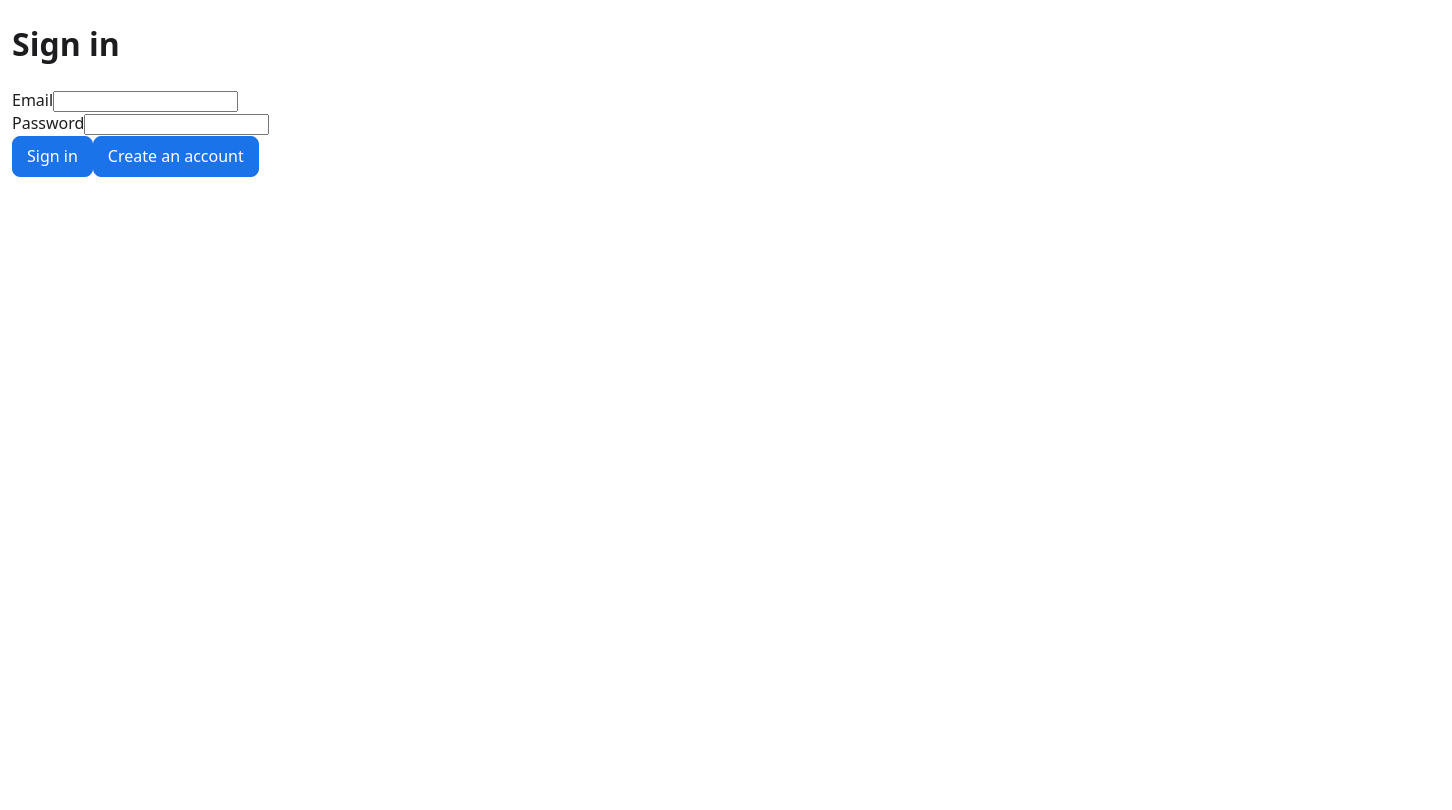
Test case: sign-out and back navigation › replaces the chat with the sign-in screen and leaves no chat content behind
Type "ana@example.com" into the field labelled "Email".
click(146, 102); type("ana@example.com")  # box top-left (53, 91), bottom-right (238, 112)
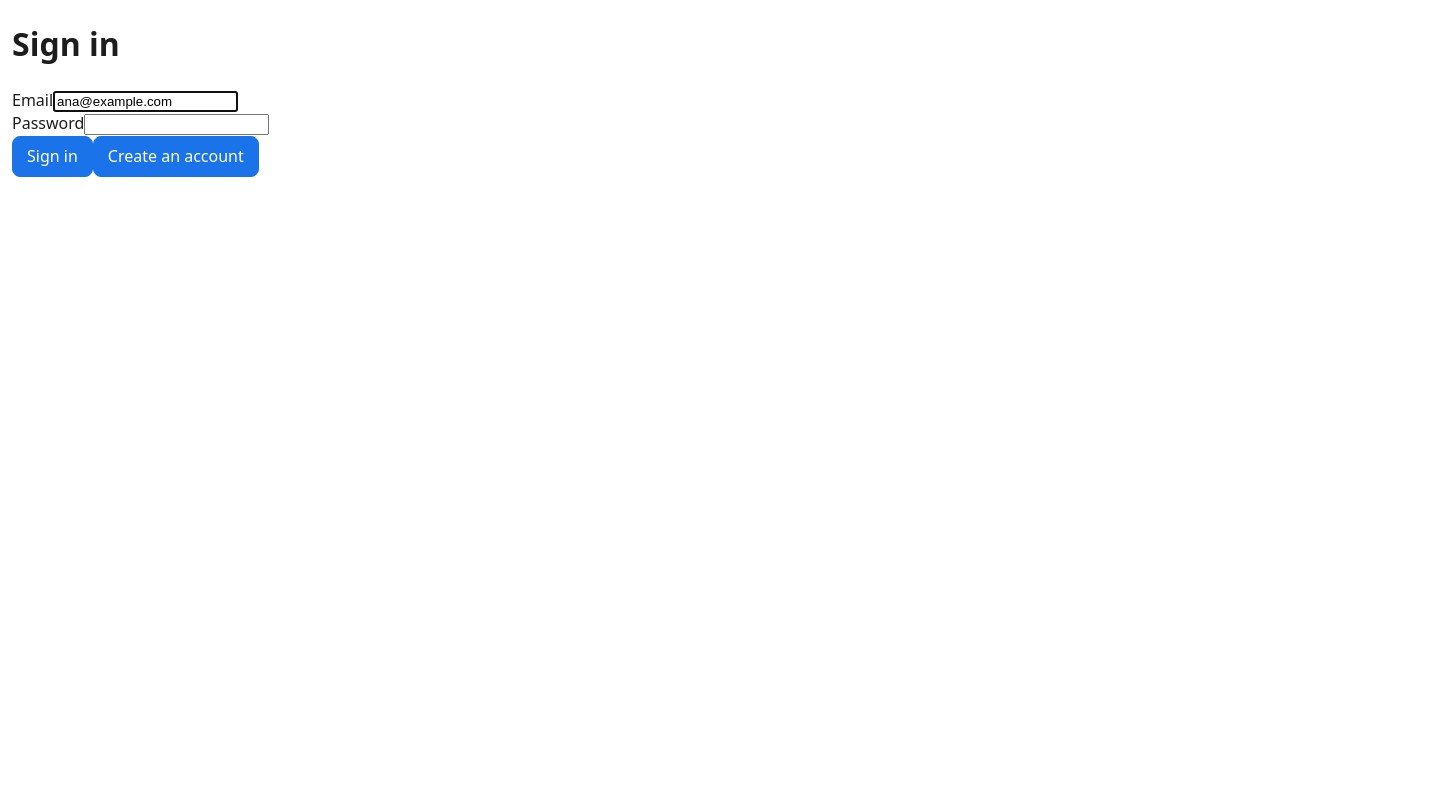
Type "correct-horse-battery-staple-42" into the password field labelled "Password".
click(177, 125); type("correct-horse-battery-staple-42")  # box top-left (84, 114), bottom-right (269, 136)
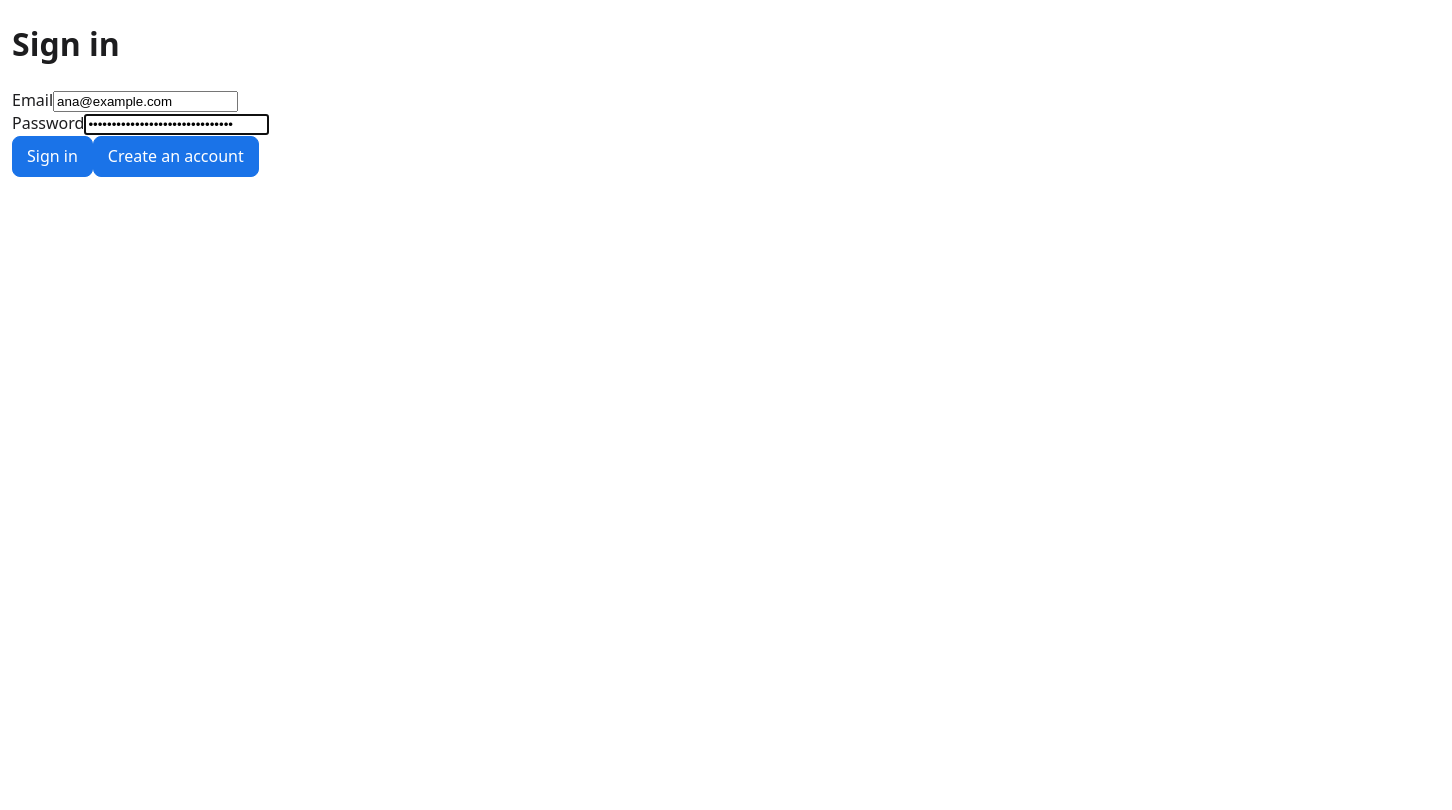
Click the button "Sign in".
click(52, 156)  # box top-left (12, 136), bottom-right (93, 177)
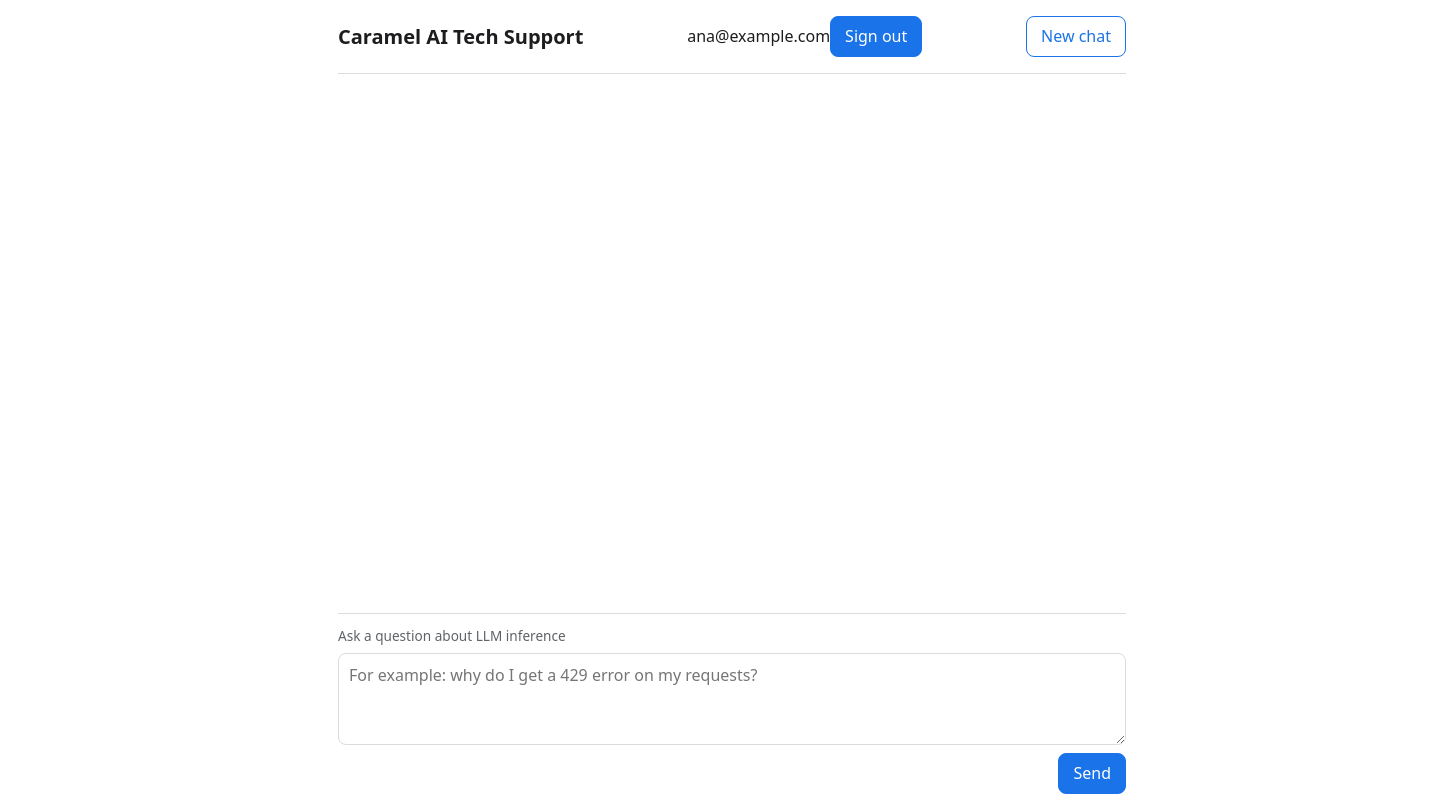
Check: the element named "Caramel AI tech support chat" is shown, box top-left (322, 0), bottom-right (1142, 809)
Click the button "Sign out".
click(876, 37)  # box top-left (830, 16), bottom-right (922, 57)
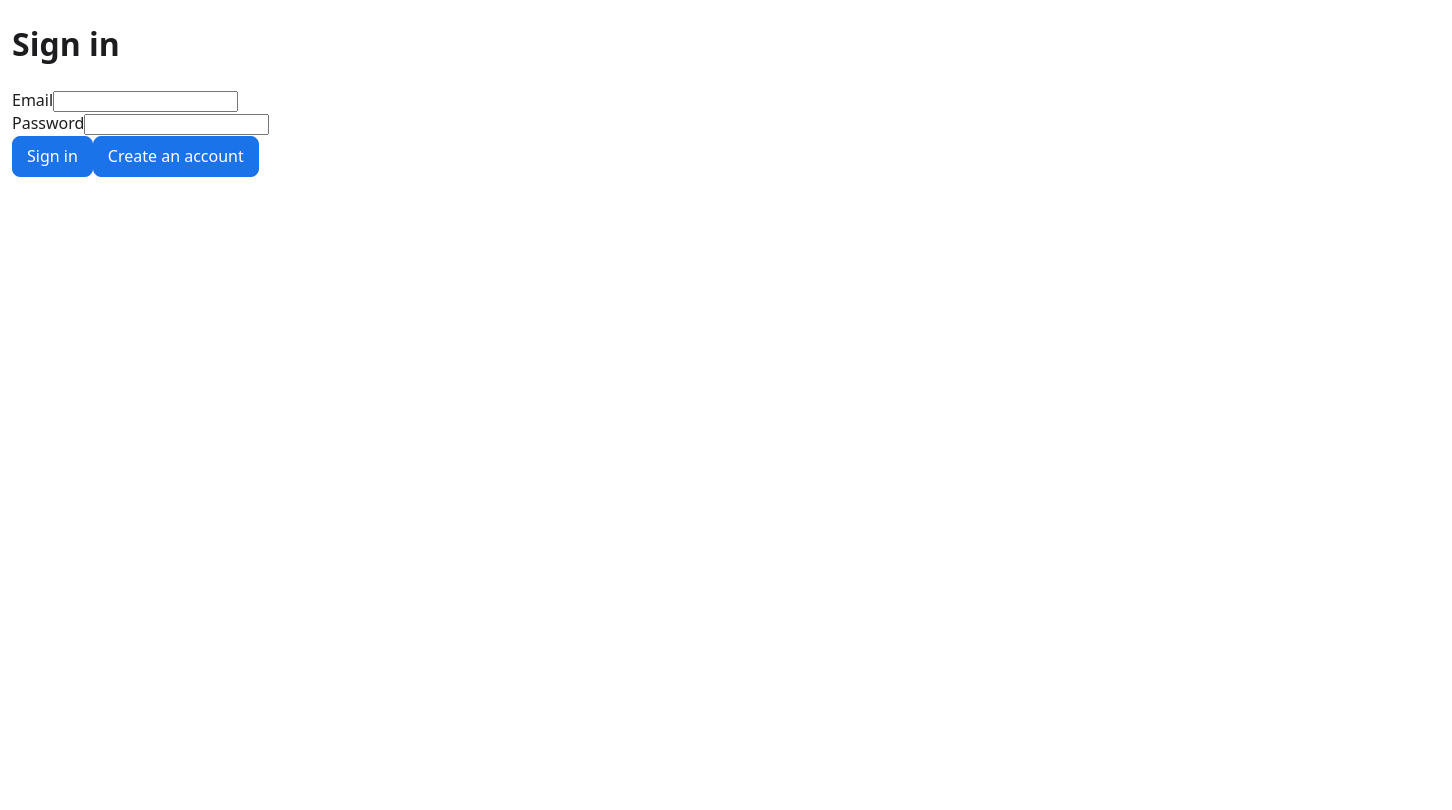
Check: the field labelled "Email" is shown, box top-left (53, 91), bottom-right (238, 112)
